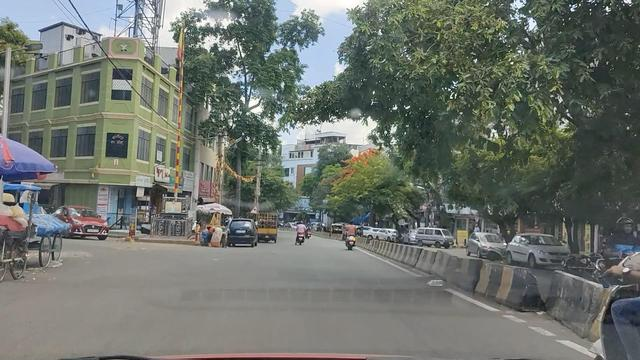LMV: (230, 219, 256, 248)
